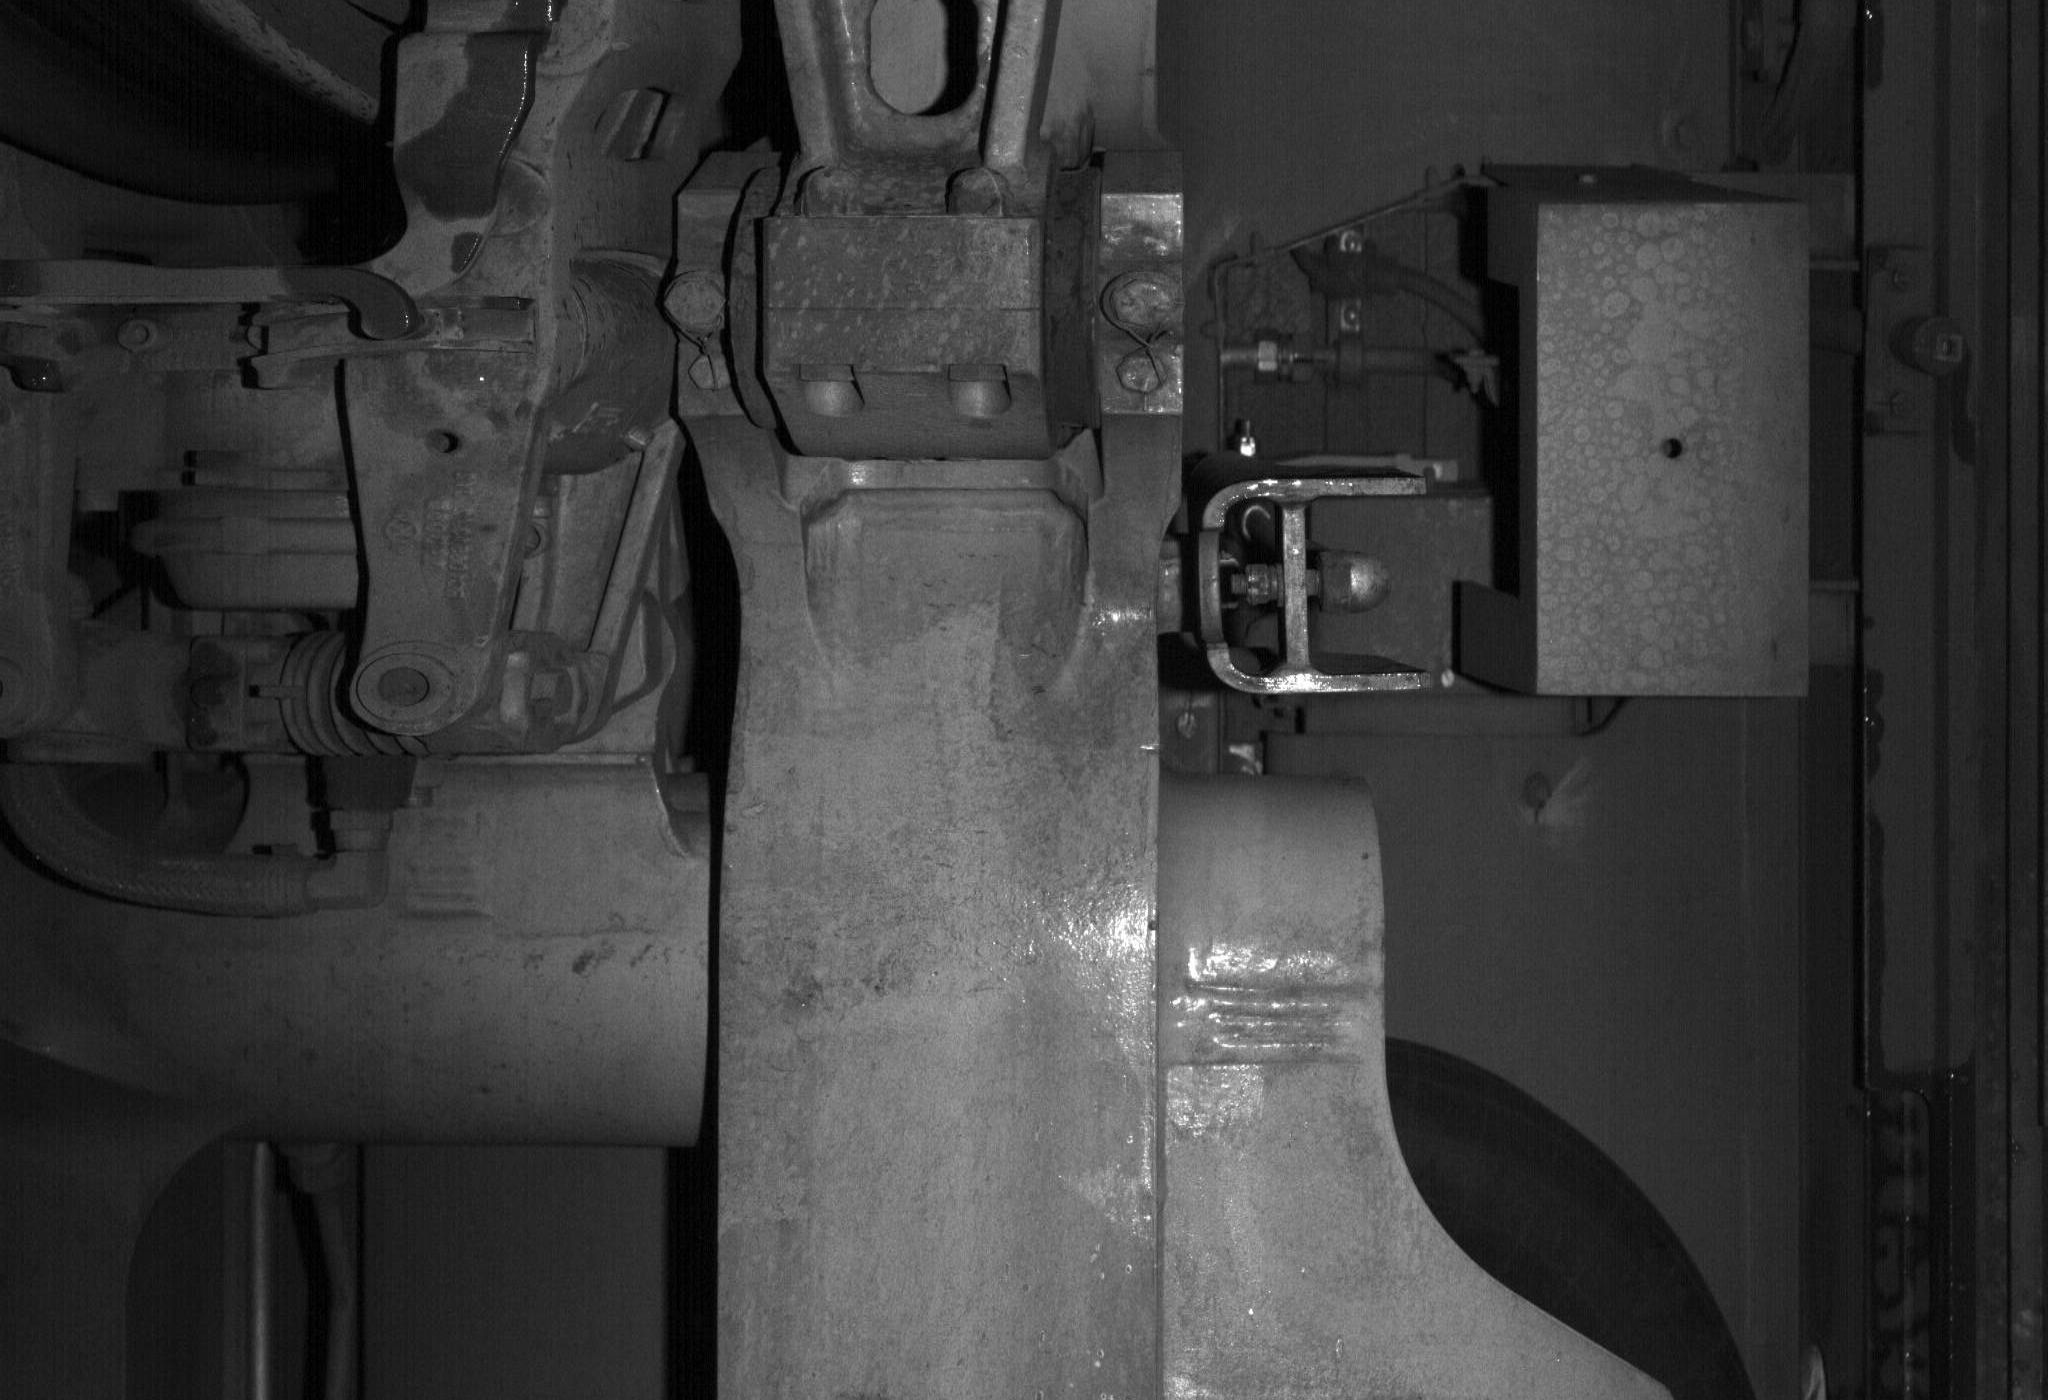area: (156, 499, 366, 610)
